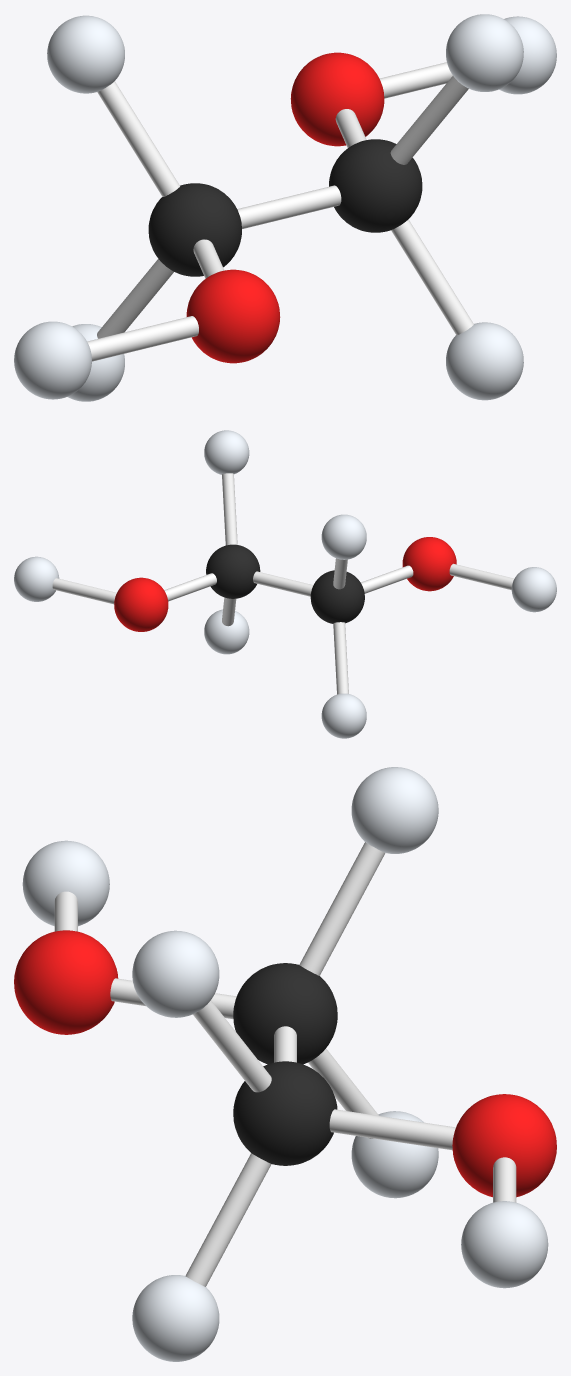
The model's file is glycol.fbx.
3 renders of one model, top to bottom at view 1: azimuth 30°, elevation 25°; view 2: azimuth 150°, elevation 25°; view 3: azimuth 270°, elevation 25°, orthographic. The views are drawn at different scales.
Parts seen in each view (by area): view 1: glycol; view 2: glycol; view 3: glycol.
Part boxes in pixels (box(x1,y1,x2,y2)): glycol: box(14, 14, 556, 401); glycol: box(14, 430, 556, 738); glycol: box(14, 767, 556, 1361).
Size of the model in its own units: 323 by 161 by 187.
